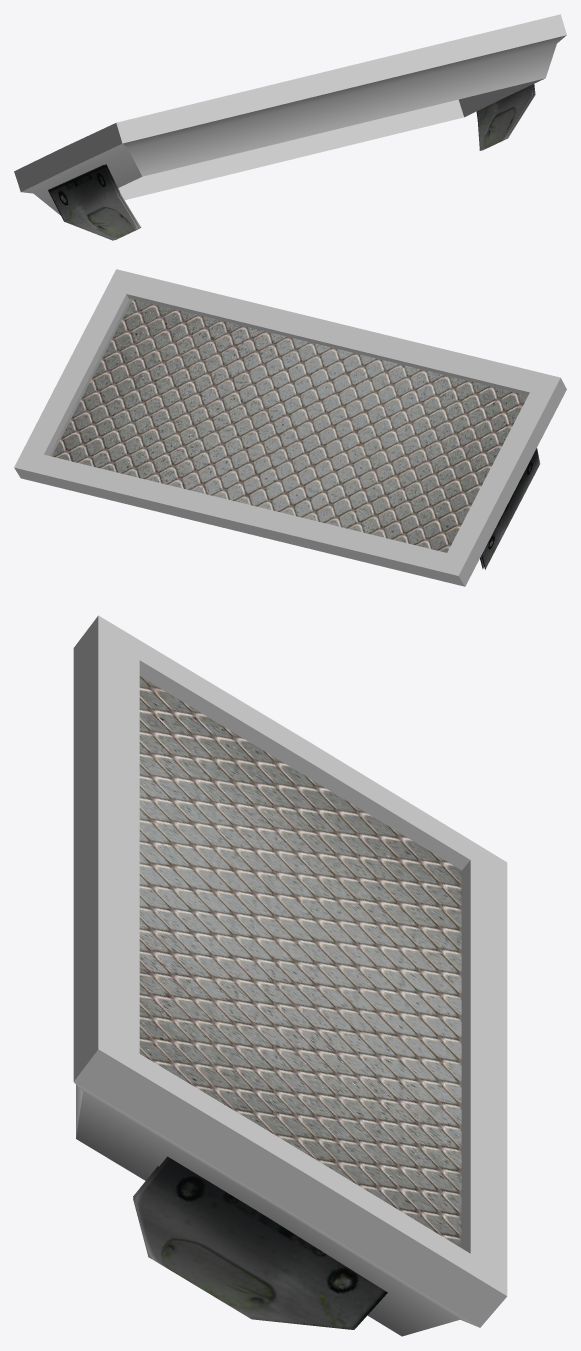
Rendered from Floor_F_2'5qmts_21.fbx.
3 renders of one model, top to bottom at view 1: azimuth 30°, elevation 25°; view 2: azimuth 150°, elevation 25°; view 3: azimuth 270°, elevation 25°, orthographic. The views are drawn at different scales.
Parts seen in each view (by area): view 1: frame_, details_; view 2: grid_, frame_, details_; view 3: grid_, frame_, details_.
Boxes of the visible parts, x1,y1,x2,y2 form: frame_: [14, 14, 566, 215]; details_: [48, 84, 535, 240]; grid_: [49, 298, 527, 552]; frame_: [14, 269, 566, 586]; details_: [480, 448, 540, 569]; grid_: [139, 676, 461, 1247]; frame_: [73, 615, 507, 1336]; details_: [133, 1156, 387, 1329].
Size of the model in its own units: 251 by 83.31 by 106.
